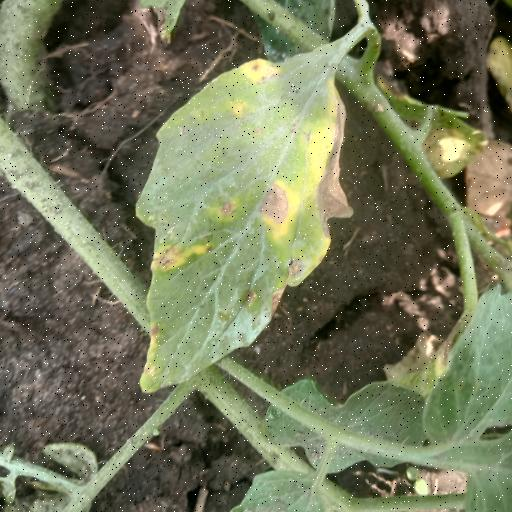Tomato_Brown_Spots: (132, 40, 350, 389)
